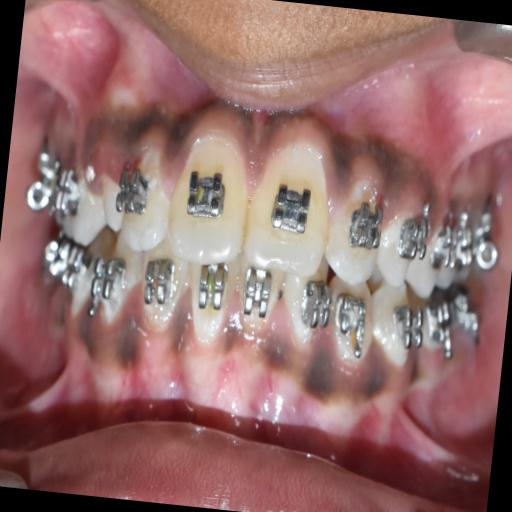correct_brace: (266, 166, 316, 244), (340, 190, 388, 261), (180, 161, 230, 229), (396, 197, 434, 274), (110, 164, 152, 222)
incorrect_brace: (320, 160, 392, 291), (111, 138, 177, 259)
